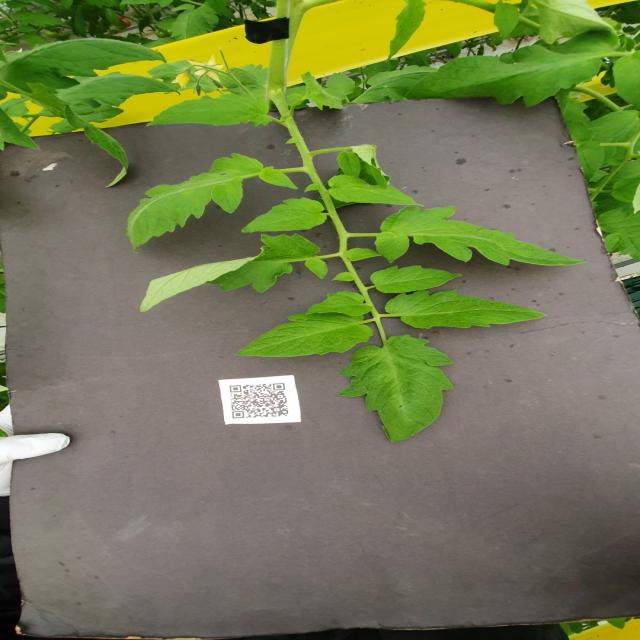Healthy Leaf: (126, 154, 299, 256), (405, 31, 620, 107), (338, 336, 456, 444), (375, 207, 589, 266), (1, 38, 169, 93), (383, 290, 547, 331), (232, 314, 373, 360), (147, 96, 275, 128), (242, 199, 328, 235), (330, 175, 425, 207), (370, 266, 464, 294), (306, 293, 374, 318), (338, 152, 361, 179)
